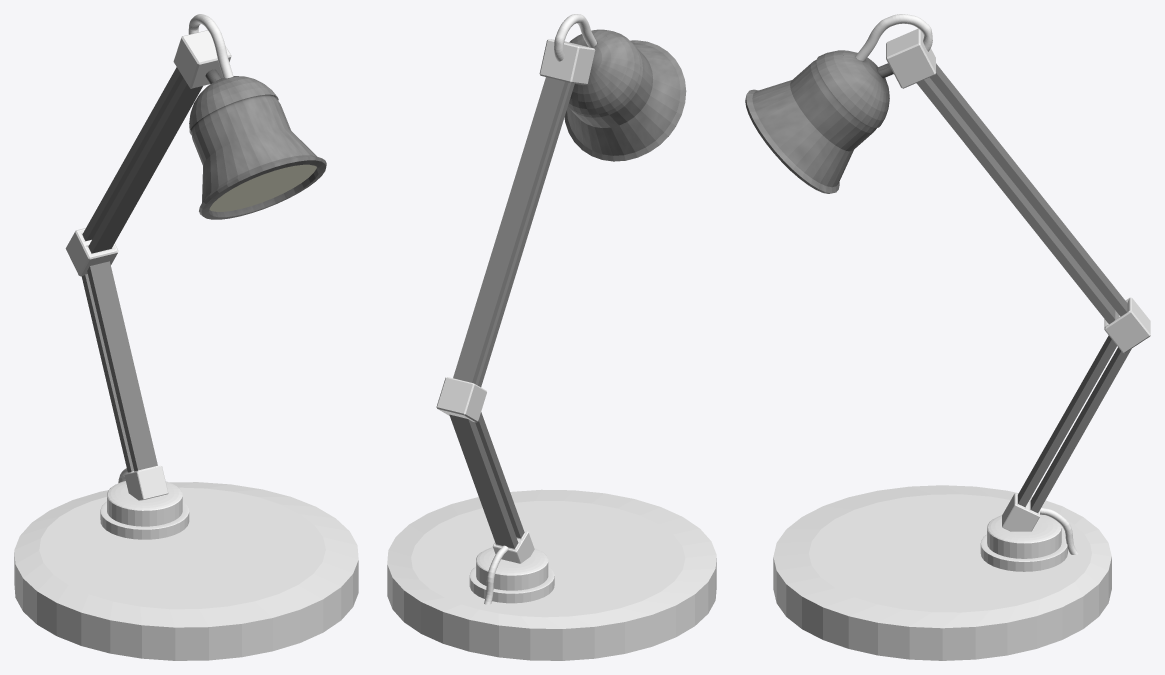
File: desklamp.obj
3 views of the same model, side by side, from view 1: azimuth 30°, elevation 25°; view 2: azimuth 150°, elevation 25°; view 3: azimuth 270°, elevation 25° (orthographic). The views are drawn at different scales.
Visible parts, largest first — view 1: colored, base; view 2: colored, base; view 3: colored, base.
Part boxes in pixels (x1,y1,x2,y2): colored: [14, 14, 358, 660]; base: [81, 67, 326, 472]; colored: [387, 14, 716, 660]; base: [449, 29, 686, 548]; colored: [773, 14, 1150, 660]; base: [745, 50, 1131, 512].
Size of the model in its own units: 0.7613 by 1.43 by 0.9122.
3 materials, 3 textured.
